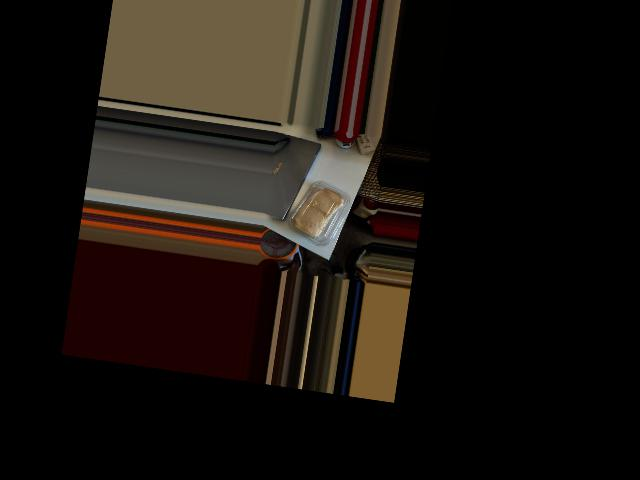cheese: (284, 175, 352, 253)
